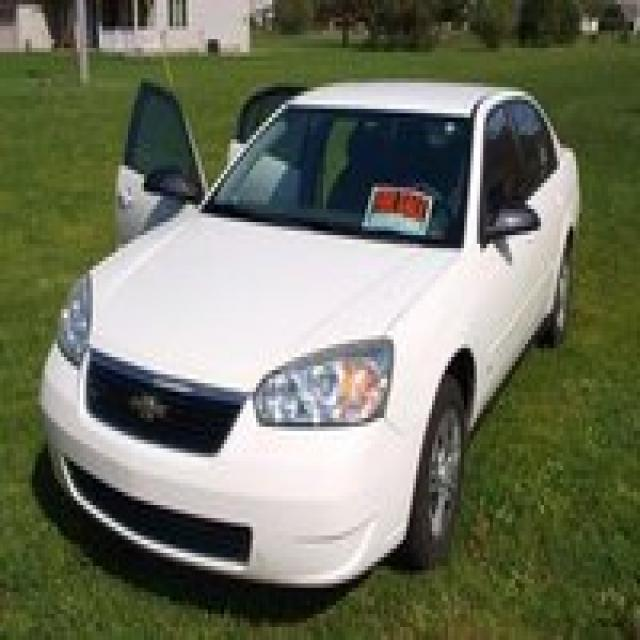Car: (11, 42, 609, 600)
